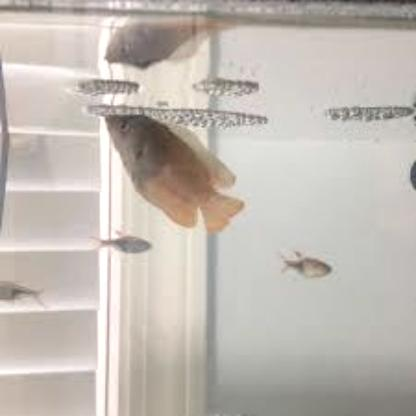gurame: (101, 108, 245, 232)
